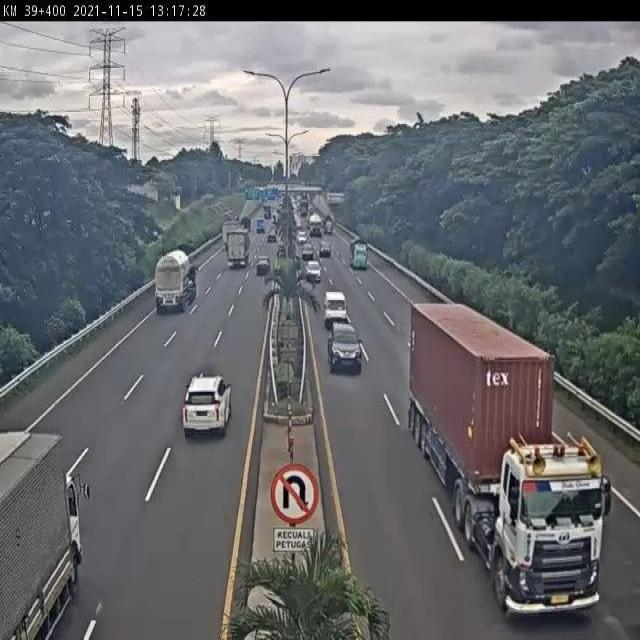bus-s-: (322, 289, 350, 324)
car: (181, 368, 233, 444), (327, 320, 362, 375), (254, 254, 273, 278), (304, 261, 322, 283)
truck-l-: (152, 248, 200, 317)
truck-m-: (0, 433, 80, 640), (224, 227, 251, 268), (350, 233, 369, 270)
truck-xl-: (402, 296, 611, 624)
